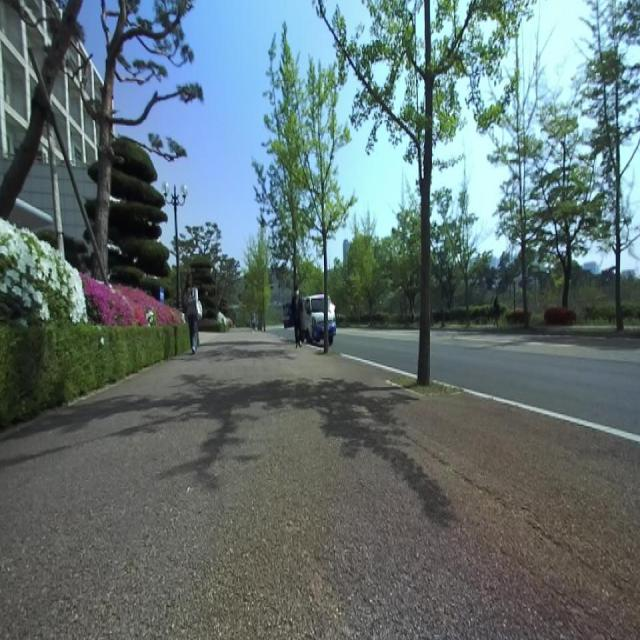sidewalk: (0, 329, 640, 639)
